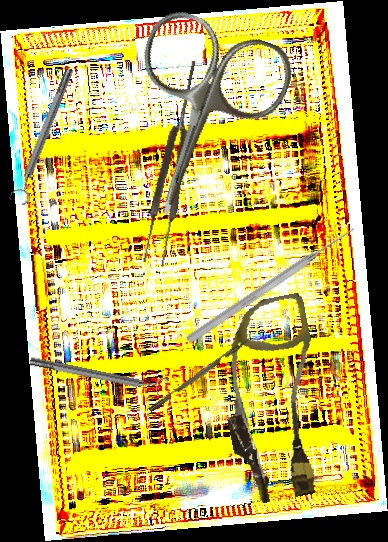Cannula: (206, 292, 340, 507)
Chopper: (144, 329, 257, 413)
Fixation Ring: (6, 65, 82, 207), (28, 348, 169, 401)
Iris Scissors: (93, 3, 301, 240)
Pusher: (184, 222, 359, 347)
Tissue Forceps: (139, 58, 209, 267)
